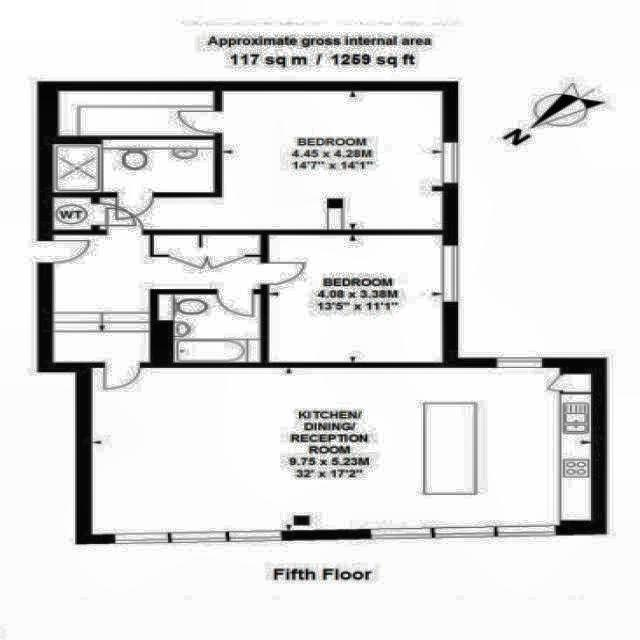room: (92, 366, 593, 534), (100, 91, 443, 229), (269, 236, 442, 362), (53, 234, 261, 312), (53, 140, 213, 191), (158, 294, 260, 362), (60, 91, 214, 135), (54, 198, 91, 230)
